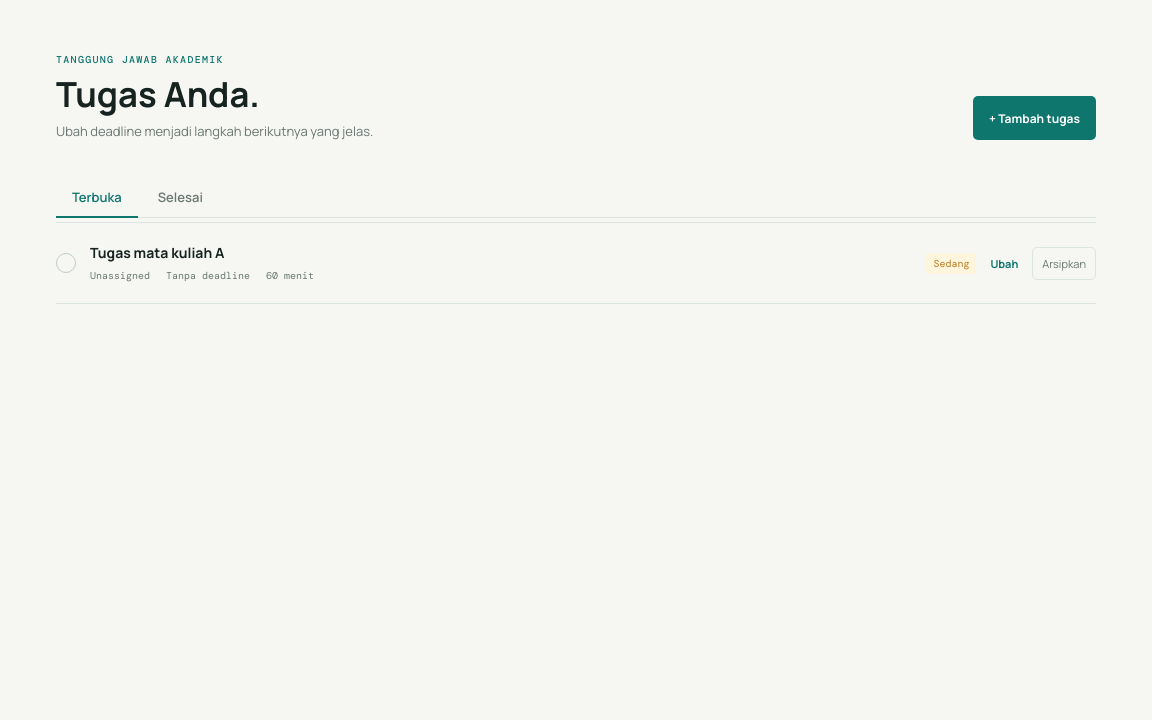
TasksPage — complete, Selesai tab, restore › keeps a completed task visible under the Selesai tab instead of deleting it
The width and height of the screenshot is (1152, 720).
Click the button named "Selesaikan Tugas mata kuliah A" at (66, 263), box [56,253,76,273]
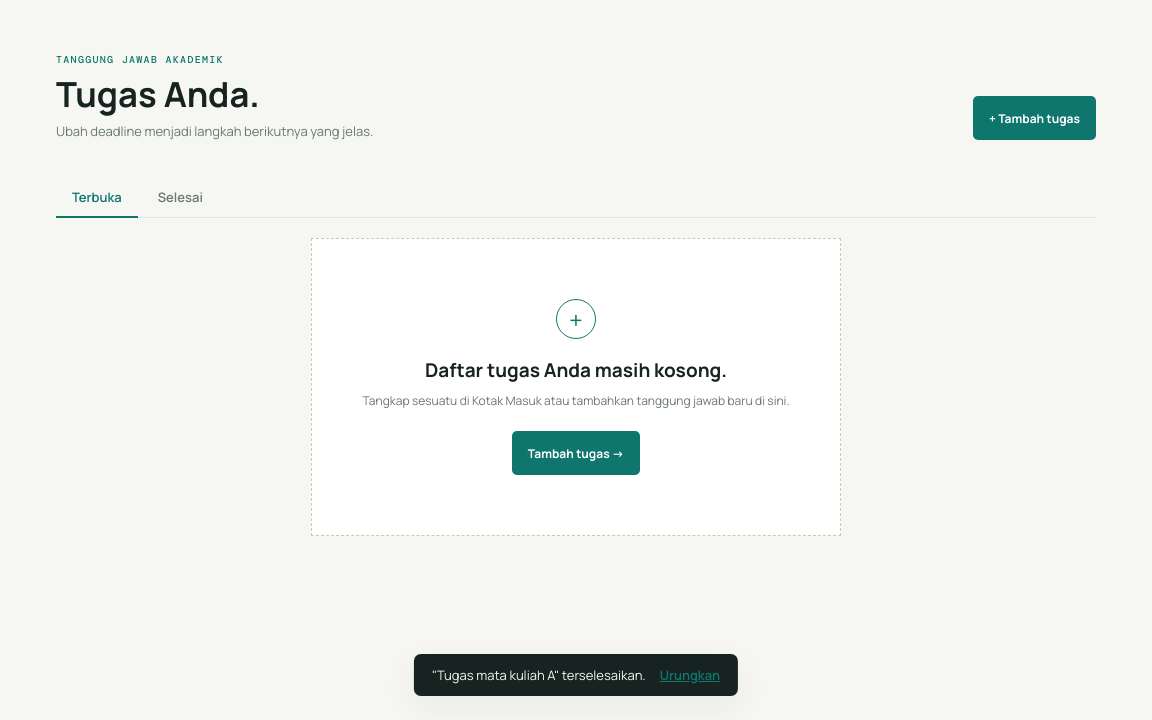
// ...but still exist and be visible under "Selesai", not deleted.
Click the tab "Selesai" at (180, 198), box [142,178,219,218]
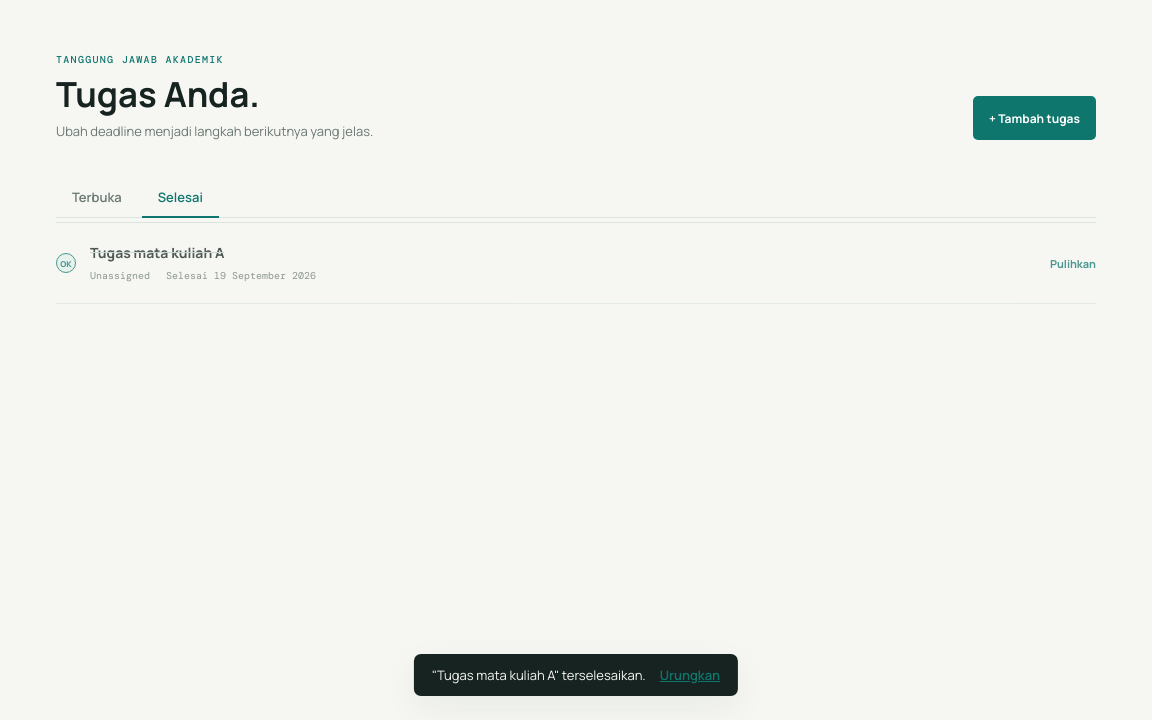
Expected: the heading "Tugas mata kuliah A" is shown, [90,243,224,262]
